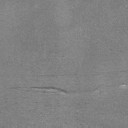finishing roll printing: (32, 70, 128, 79), (10, 87, 98, 96)
